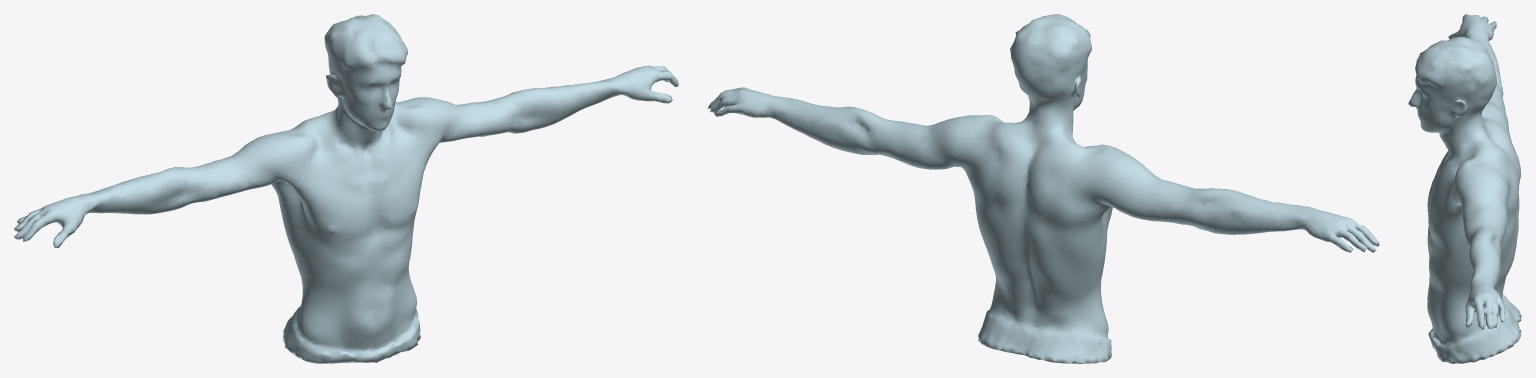
Rendered from 人物其它_20260324191755_opt.glb.
3 renders of one model, left to right at view 1: azimuth 30°, elevation 25°; view 2: azimuth 150°, elevation 25°; view 3: azimuth 270°, elevation 25°, orthographic. The views are drawn at different scales.
Parts seen in each view (by area): view 1: Male_T; view 2: Male_T; view 3: Male_T.
Part boxes in pixels (x1=…): Male_T: x1=14, y1=14, x2=678, y2=363; Male_T: x1=707, y1=14, x2=1379, y2=363; Male_T: x1=1408, y1=14, x2=1521, y2=363.
Bounding box in the file's own units: 0.8461 × 0.4 × 0.137.
